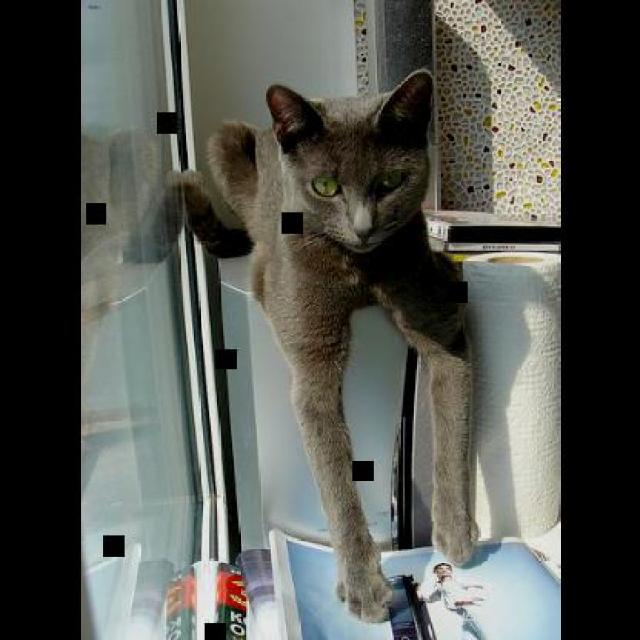unauthorized: (163, 68, 479, 623)
